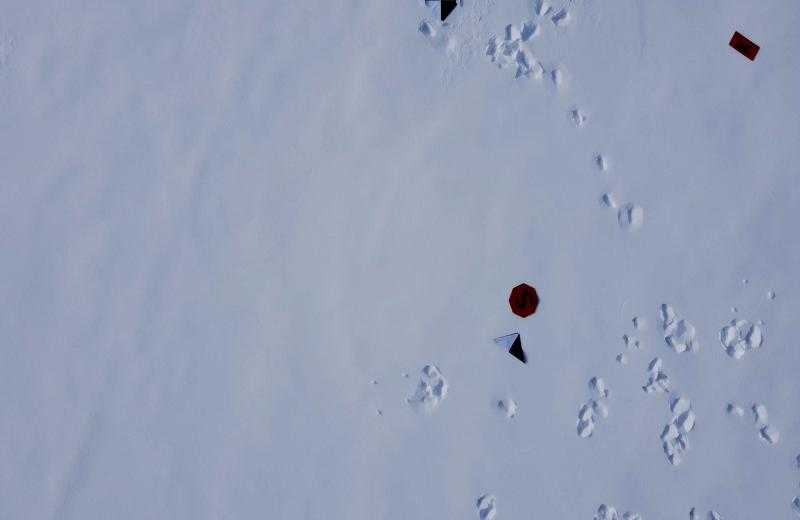Octagon: (507, 279, 541, 322)
Rectangle: (728, 27, 761, 66)
